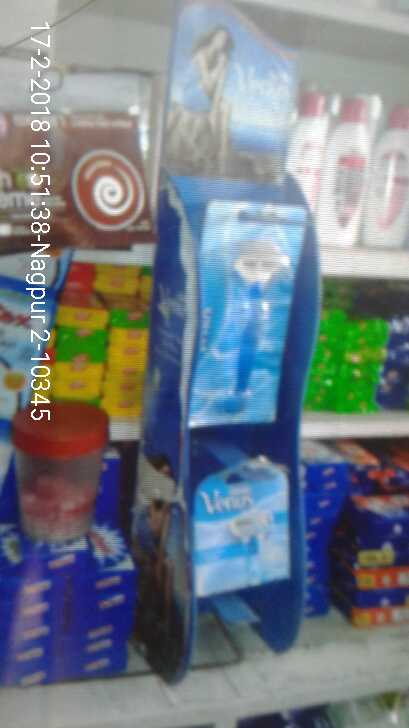venus: (193, 196, 306, 431), (192, 461, 295, 596)
